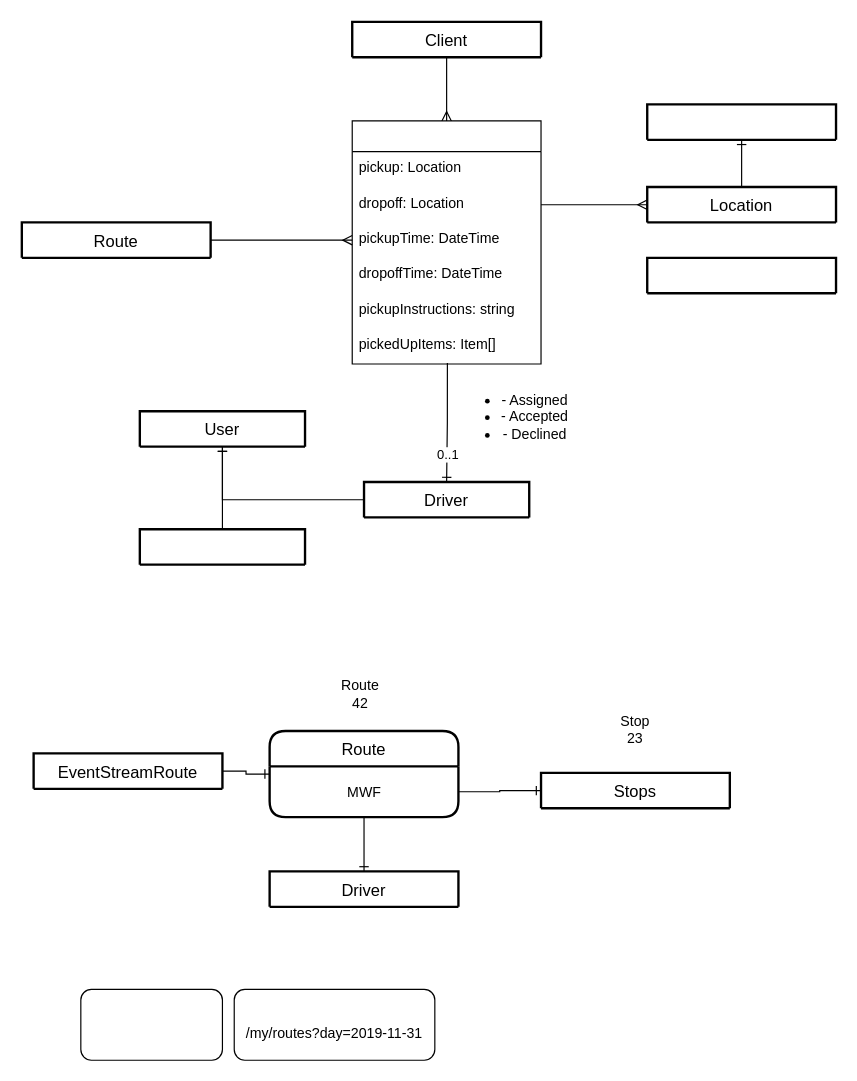
This 857x1081 diagram has some shape labels left out. Here are the shapes that lost their labels. From the top down, the box of each, then its label:
(645, 103, 837, 140): Address
(351, 120, 541, 364): Delivery
(645, 256, 837, 294): EligibilityConstraint
(138, 527, 306, 565): Dispatch
(80, 988, 222, 1060): Todays Routes /routes/today
